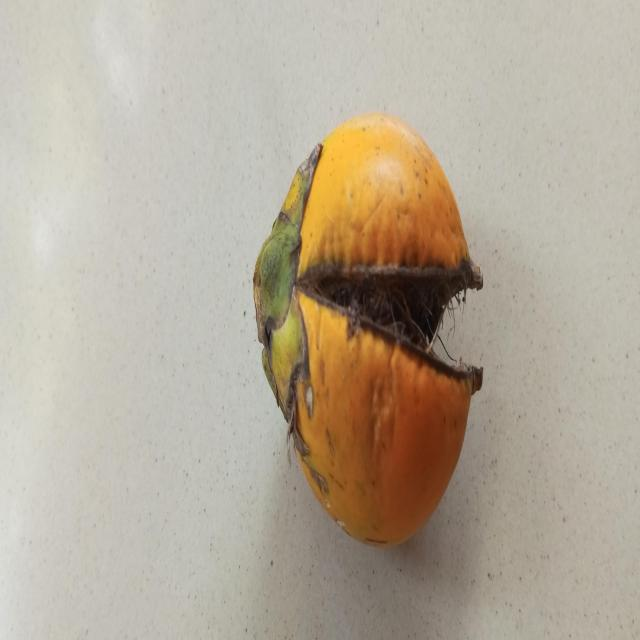damaged: (251, 114, 484, 549)
